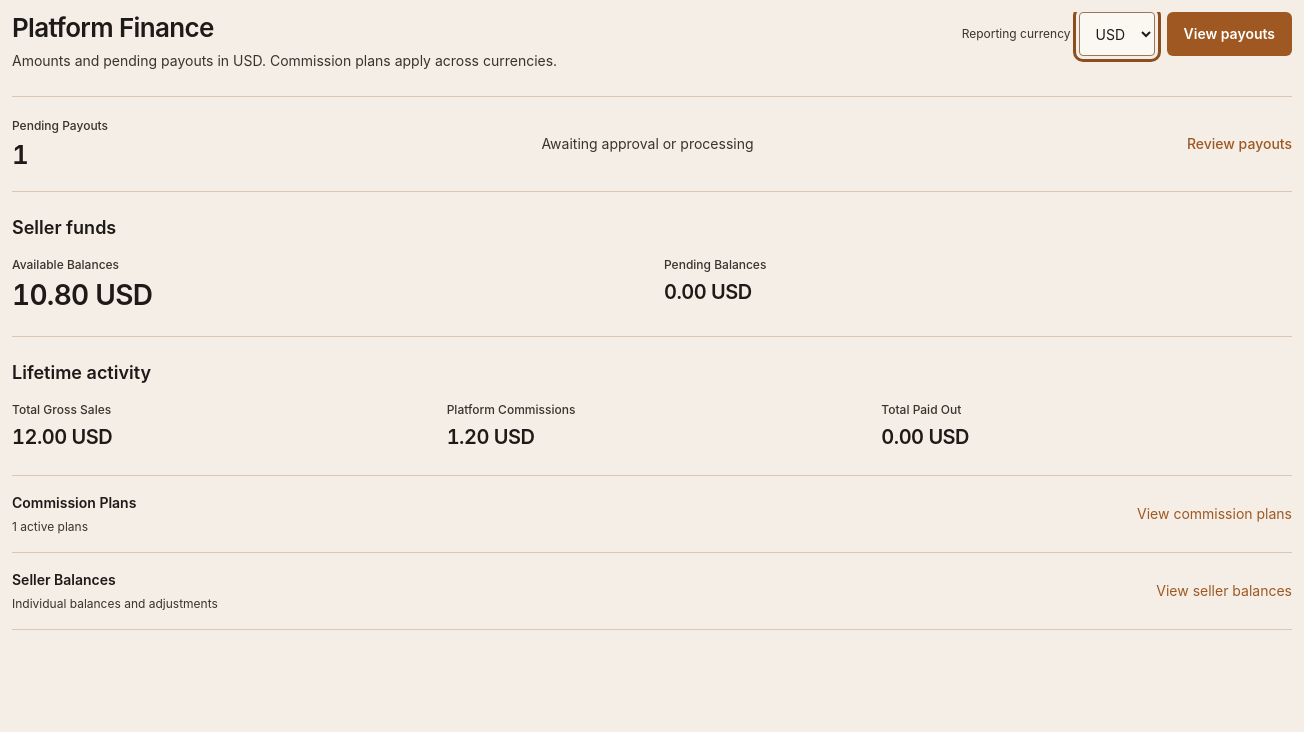
it: currency-scoped report presentation › switches finance totals without converting or rounding money
Select "NPR" in the dropdown labelled "Reporting currency" at (1116, 34), box [1078,12,1154,56]
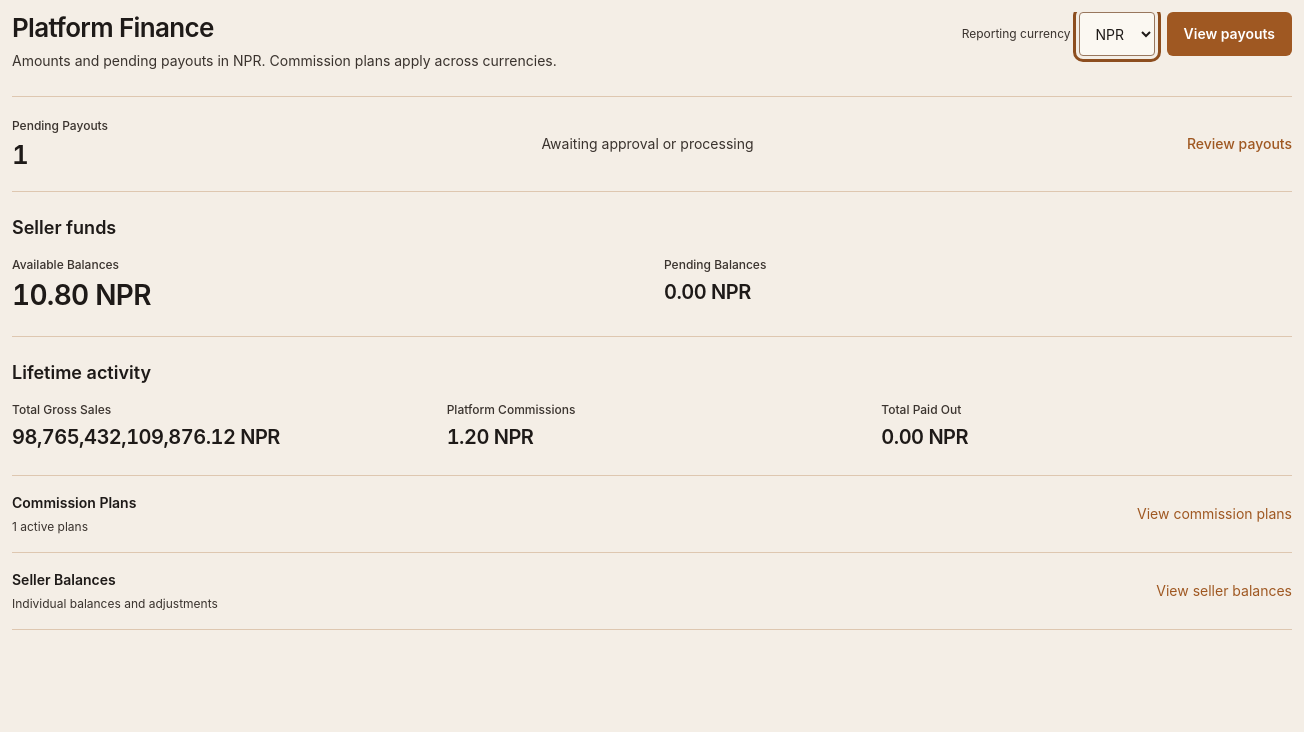
expect the text "12.00 USD" is gone: met
